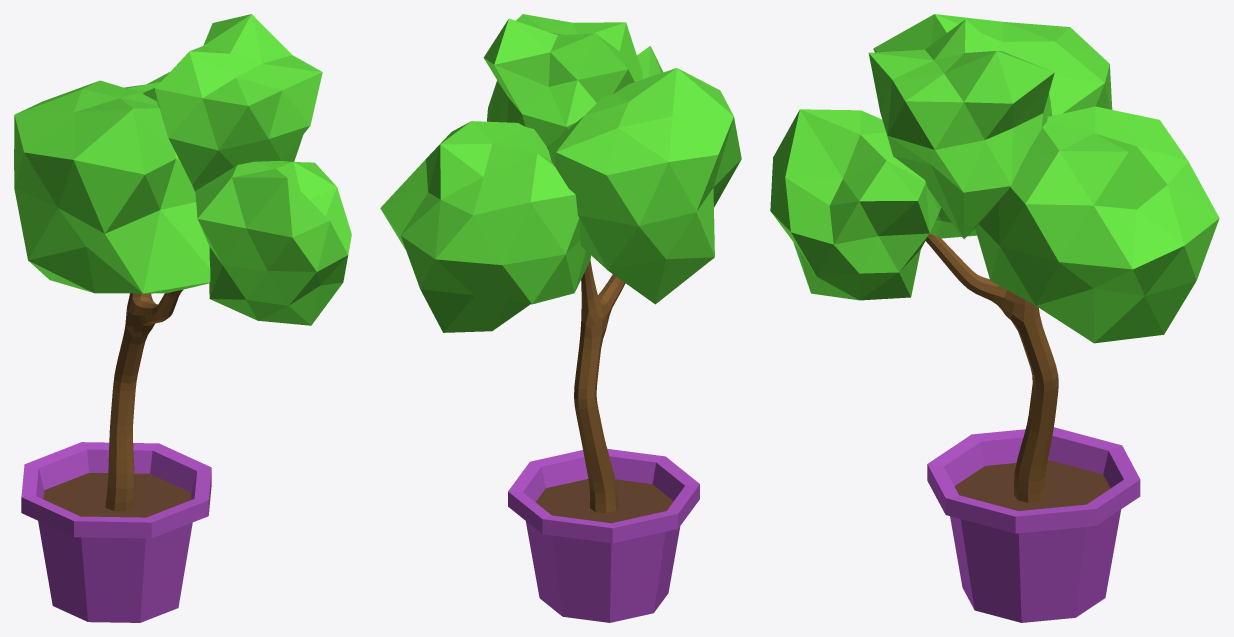
File: plants.fbx
3 renders of one model, left to right at view 1: azimuth 30°, elevation 25°; view 2: azimuth 150°, elevation 25°; view 3: azimuth 270°, elevation 25°, orthographic. The views are drawn at different scales.
Visible parts, largest first — view 1: Cylinder.020; view 2: Cylinder.020; view 3: Cylinder.020.
Boxes of the visible parts, bbox=[...] form: Cylinder.020: bbox=[14, 14, 351, 622]; Cylinder.020: bbox=[380, 14, 741, 622]; Cylinder.020: bbox=[770, 14, 1219, 622].
Size of the model in its own units: 137 by 251 by 170.
